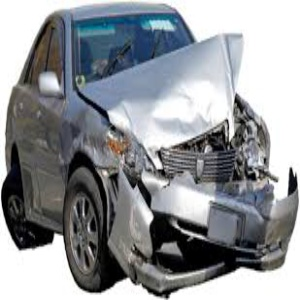bonnet: (127, 29, 246, 142)
bumper: (113, 170, 300, 292)
